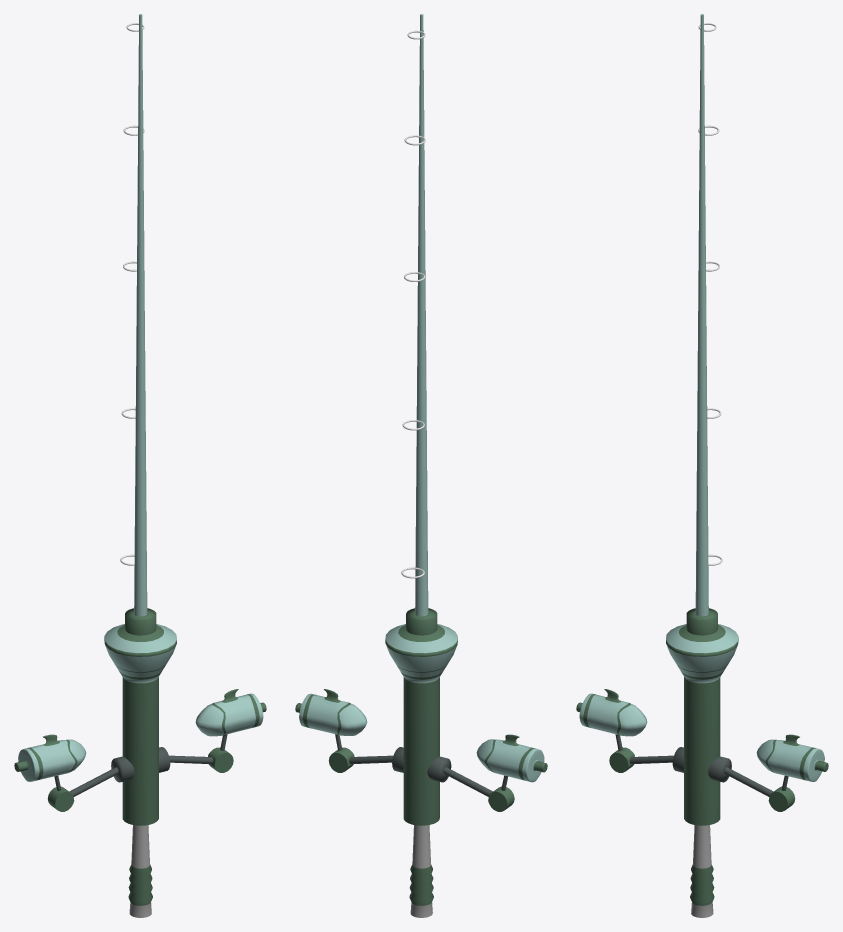
The model's file is Rod.fbx.
3 renders of one model, left to right at view 1: azimuth 30°, elevation 25°; view 2: azimuth 150°, elevation 25°; view 3: azimuth 330°, elevation 25°, orthographic.
Visible parts, largest first — view 1: MainRod, pCube1, pCylinder2, pCylinder3; view 2: MainRod, pCube1, pCylinder2, pCylinder3; view 3: MainRod, pCube1, pCylinder2, pCylinder3.
Part boxes in pixels (x1,y1,x2,y2): MainRod: (104, 14, 176, 917); pCube1: (14, 689, 266, 790); pCylinder2: (69, 747, 213, 796); pCylinder3: (47, 747, 233, 811); MainRod: (385, 14, 457, 917); pCube1: (295, 689, 547, 790); pCylinder2: (349, 747, 492, 796); pCylinder3: (328, 747, 514, 811); MainRod: (666, 14, 738, 917); pCube1: (576, 689, 828, 790); pCylinder2: (629, 747, 773, 796); pCylinder3: (609, 747, 795, 811).
Bounding box in the file's own units: 15.61 × 3.99 × 54.11.
